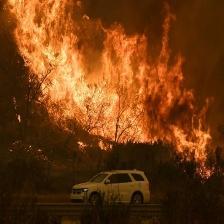fire: (4, 1, 216, 175)
